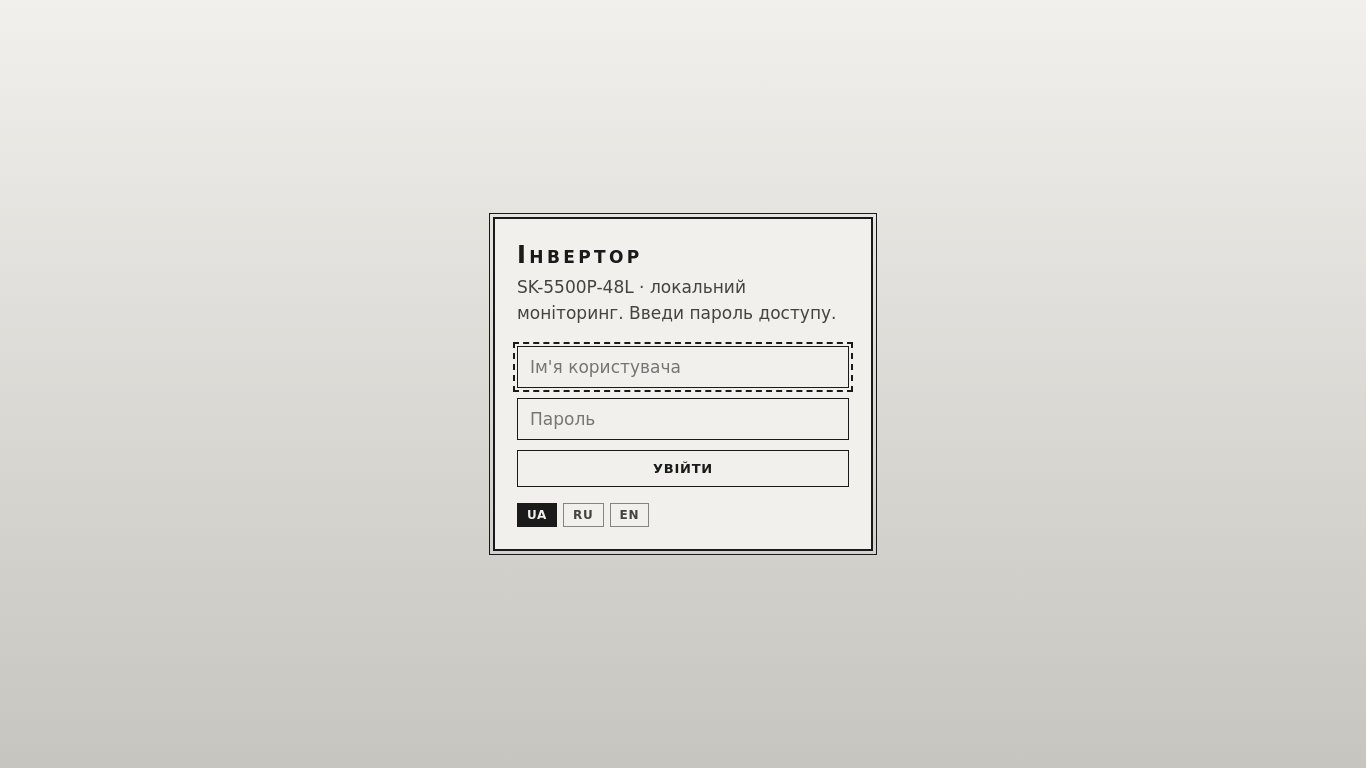
Scenario: LoginPage › shows the localized bad-password message on code=bad_password
Step 1. Type "wrong" into the password field with placeholder "Пароль" → (683, 419), box 517,398 -> 849,440
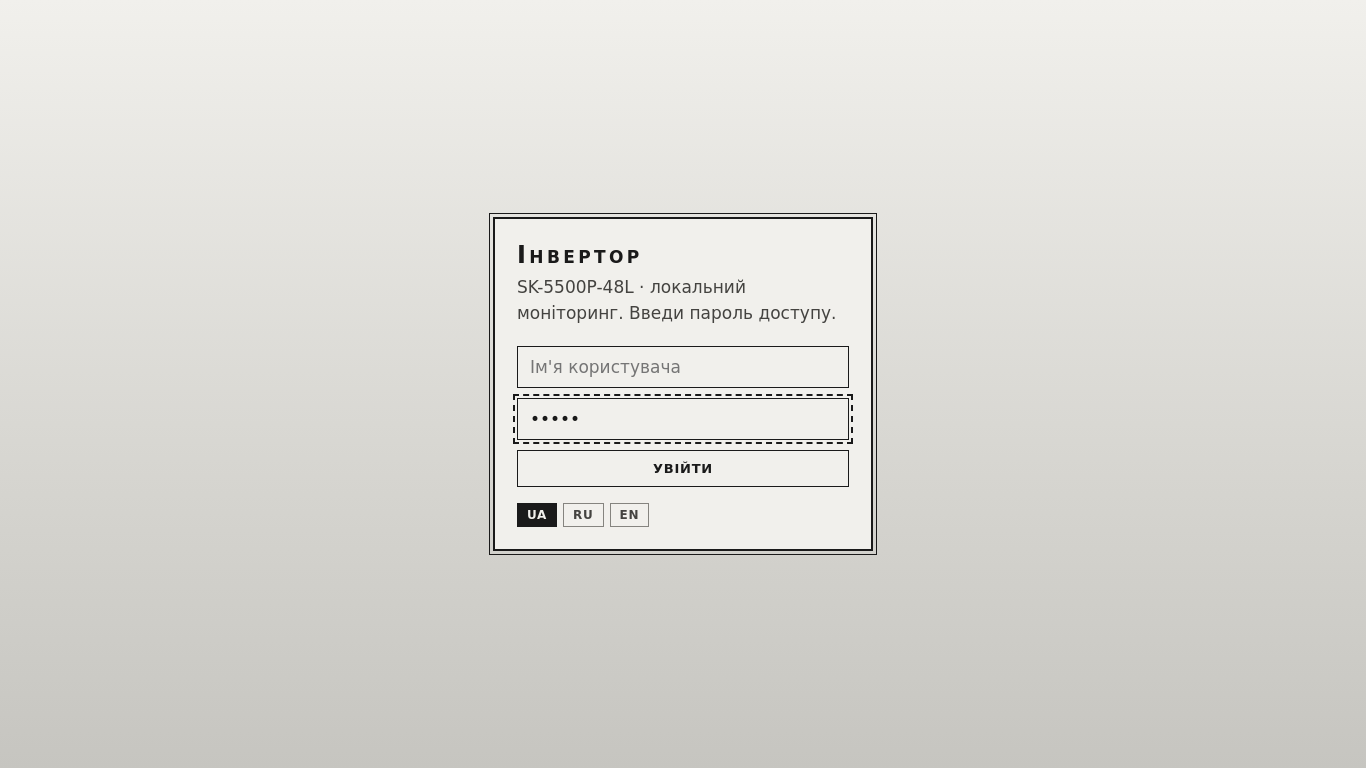
Step 2. Click the button "Увійти" → (683, 468), box 517,450 -> 849,487
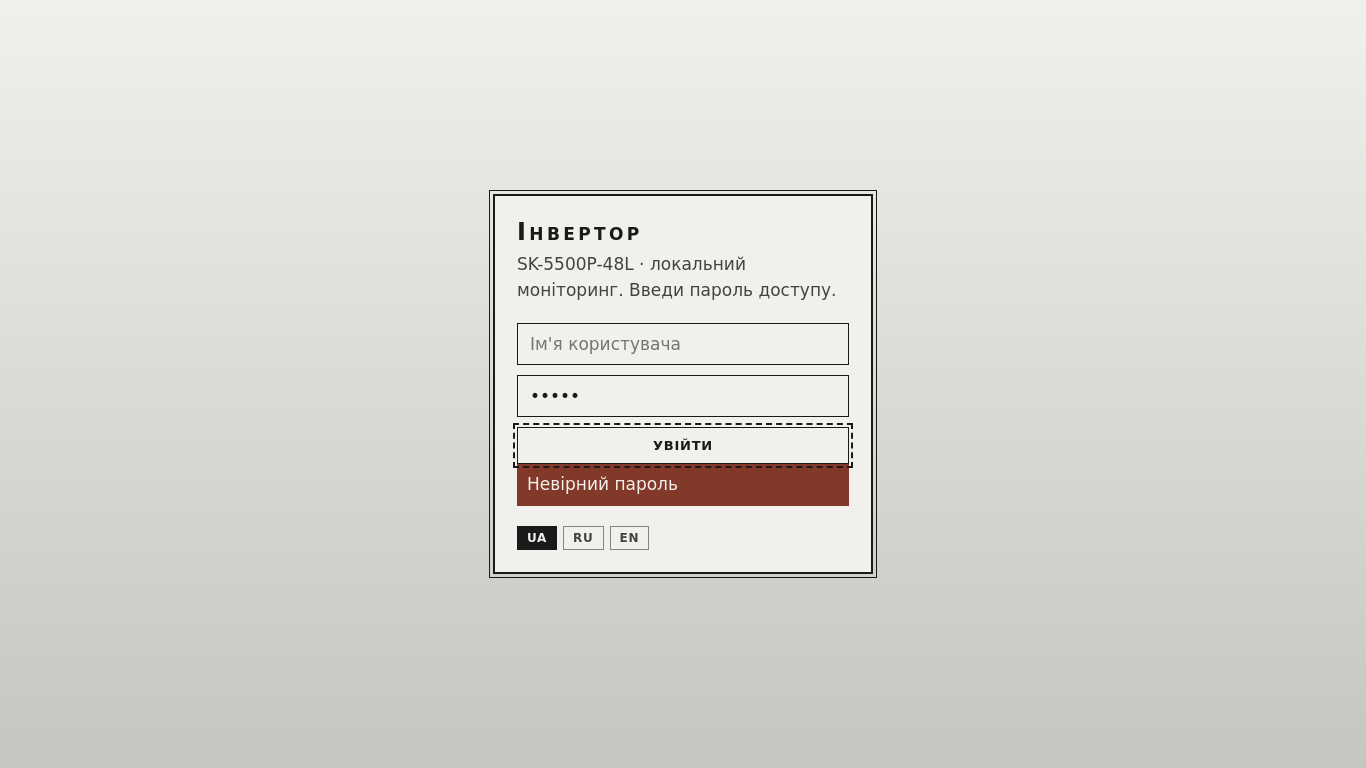
Now the text "Невірний пароль" is shown, box 517,464 -> 849,506
